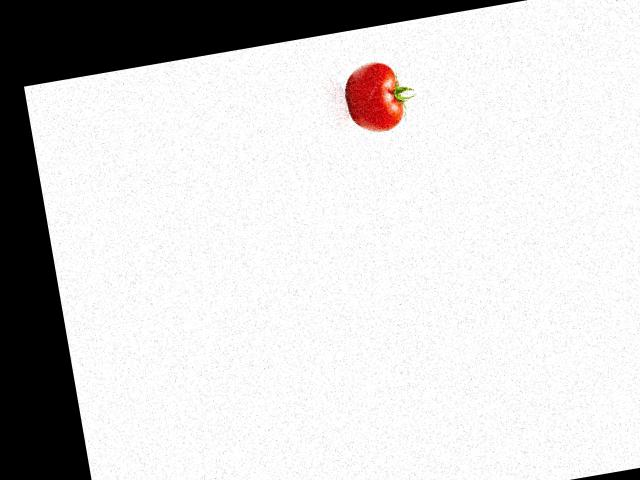tomato: (340, 57, 406, 136)
